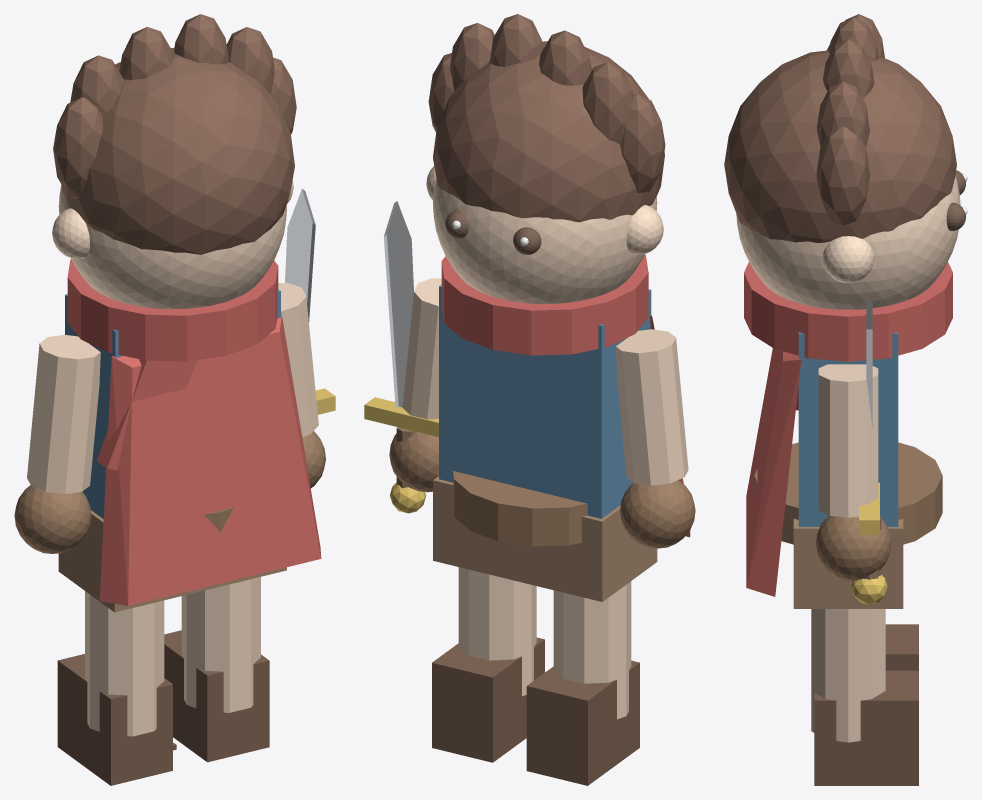
Rendered from super-junior.glb.
3 renders of one model, left to right at view 1: azimuth 30°, elevation 25°; view 2: azimuth 150°, elevation 25°; view 3: azimuth 270°, elevation 25°, orthographic.
Parts seen in each view (by area): view 1: Cape, HairCap, Scarf, Head, LeftUpperArm, LeftBoot, LeftLeg, RightLeg, RightBoot, LeftGlove, HairSpike5, RightUpperArm (+11 smaller); view 2: Torso, HairCap, Head, Shorts, Scarf, LeftBoot, RightBoot, LeftUpperArm, LeftLeg, Waist, RightLeg, RightUpperArm (+13 smaller); view 3: HairCap, Head, Scarf, RightBoot, RightUpperArm, Cape, RightLeg, Torso, Shorts, Waist, HairSpike6, RightGlove (+9 smaller).
Part boxes in pixels (x1,y1,x2,y2): Cape: (99, 315, 321, 605); HairCap: (61, 48, 294, 254); Scarf: (67, 259, 278, 361); Head: (58, 184, 286, 309); LeftUpperArm: (27, 334, 100, 493); LeftBoot: (57, 654, 172, 785); LeftLeg: (85, 591, 164, 736); RightLeg: (181, 577, 260, 712); RightBoot: (164, 630, 269, 762); LeftGlove: (14, 485, 91, 553); HairSpike5: (53, 97, 102, 198); RightUpperArm: (278, 282, 318, 436); Torso: (439, 284, 651, 518); HairCap: (433, 41, 664, 222); Head: (433, 178, 657, 303); Shorts: (433, 476, 657, 601); Scarf: (441, 255, 648, 355); LeftBoot: (526, 660, 639, 785); RightBoot: (432, 637, 544, 762); LeftUpperArm: (616, 329, 688, 485); LeftLeg: (553, 581, 631, 719); Waist: (453, 471, 587, 546); RightLeg: (458, 567, 536, 696); RightUpperArm: (402, 278, 441, 419); HairCap: (724, 50, 956, 242); Head: (736, 176, 960, 309); Scarf: (744, 262, 952, 361); RightBoot: (814, 670, 918, 785); RightUpperArm: (818, 364, 878, 517); Cape: (746, 348, 801, 596); RightLeg: (811, 609, 885, 742); Torso: (798, 332, 898, 526); Shorts: (793, 518, 903, 608); Waist: (754, 442, 942, 544); HairSpike6: (816, 126, 870, 226); RightGlove: (816, 515, 891, 580).
Size of the model in its own units: 1.38 by 3.05 by 0.931.
